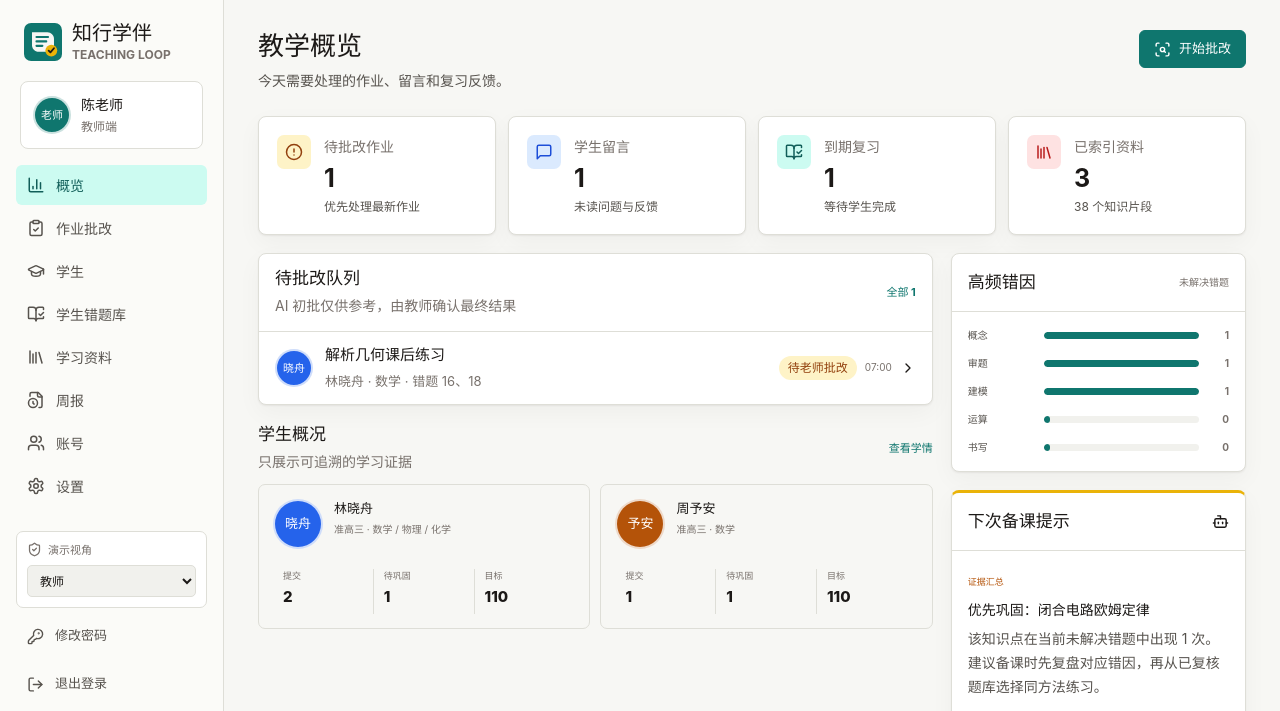
it: password settings › validates confirmation and updates the current account password
Click the button "修改密码" at [112, 636], box x1=16 y1=616 x2=207 y2=656
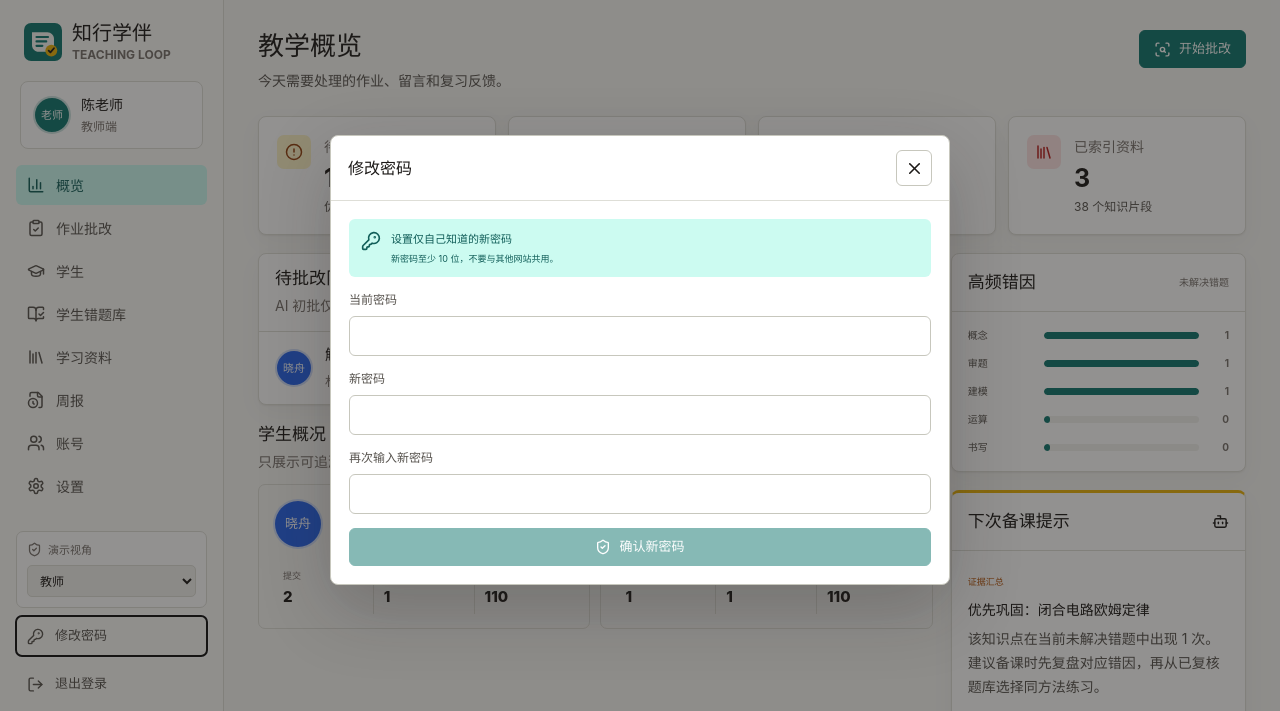
Type "current-password-2026" into the password field labelled "当前密码" at [640, 336], box x1=349 y1=316 x2=931 y2=356
Type "new-password-2026" into the password field labelled "新密码" at [640, 415], box x1=349 y1=395 x2=931 y2=435
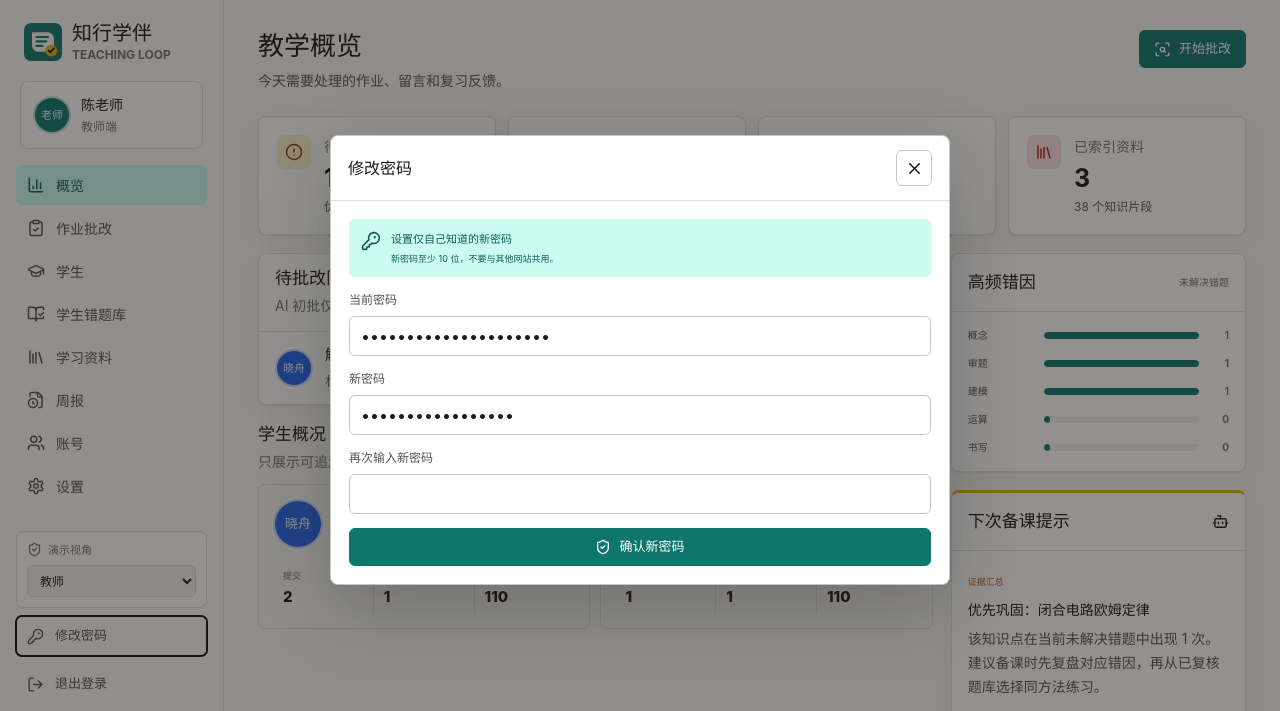
Type "different-password" into the password field labelled "再次输入新密码" at [640, 494], box x1=349 y1=474 x2=931 y2=514
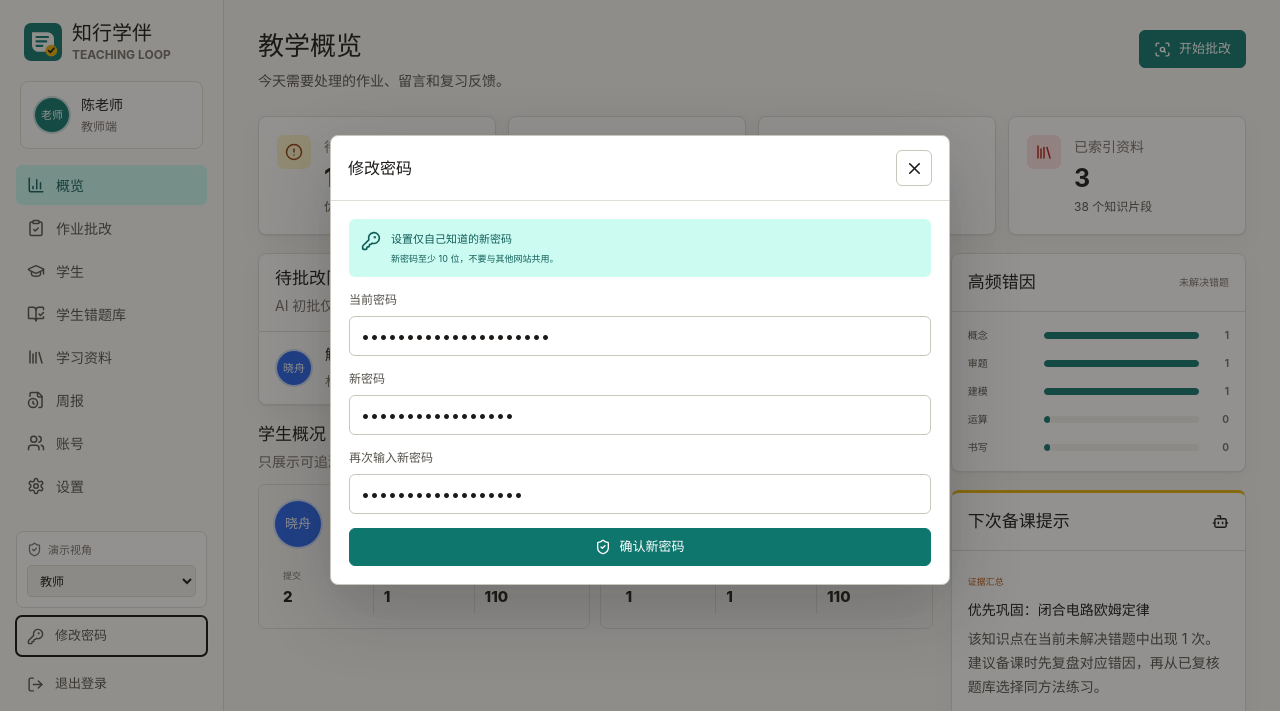
Click the button "确认新密码" at [640, 547], box x1=349 y1=528 x2=931 y2=566
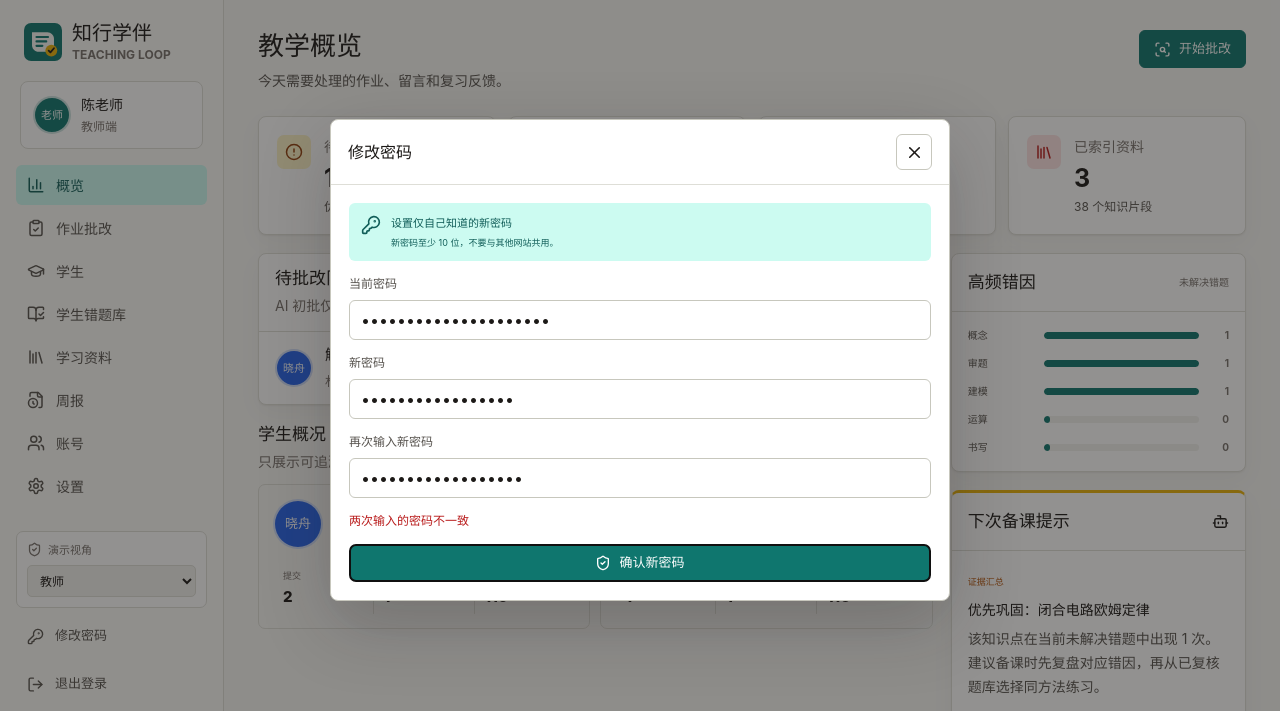
Expected: the text "两次输入的密码不一致" is shown, x1=349 y1=513 x2=469 y2=528
Type "new-password-2026" into the password field labelled "再次输入新密码" at [640, 478], box x1=349 y1=458 x2=931 y2=498
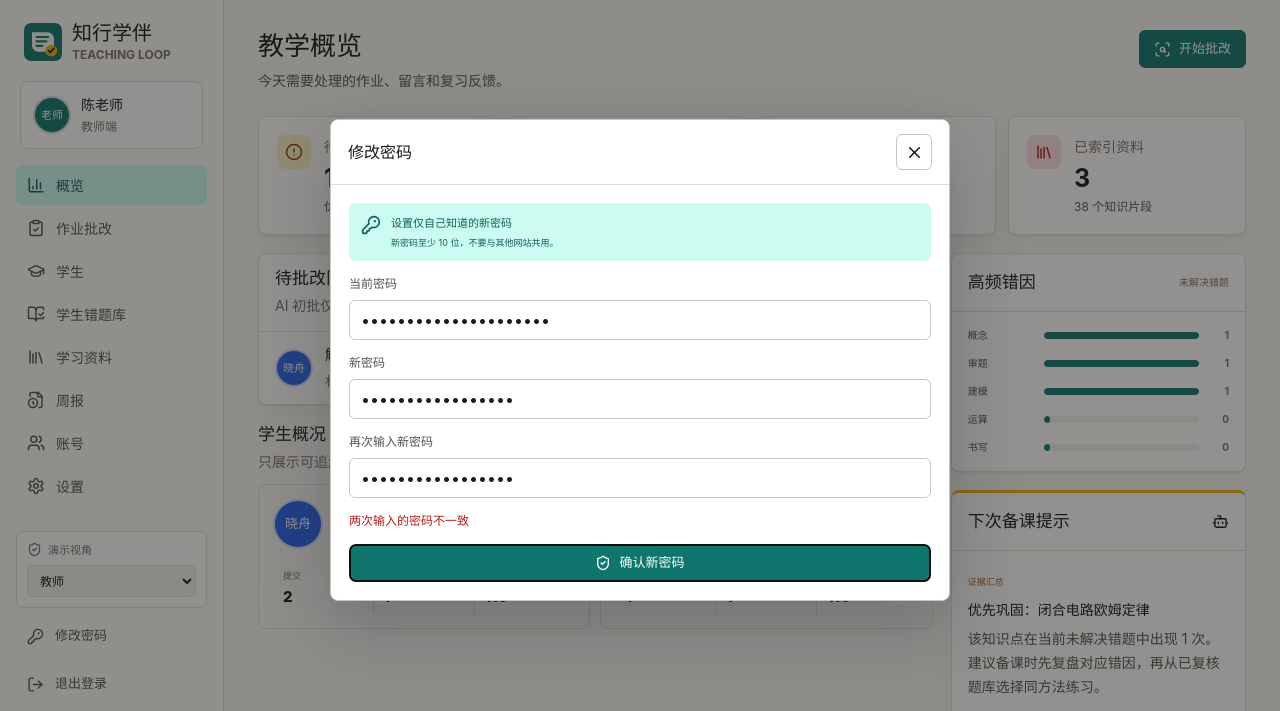
Click the button "确认新密码" at [640, 563], box x1=349 y1=544 x2=931 y2=582
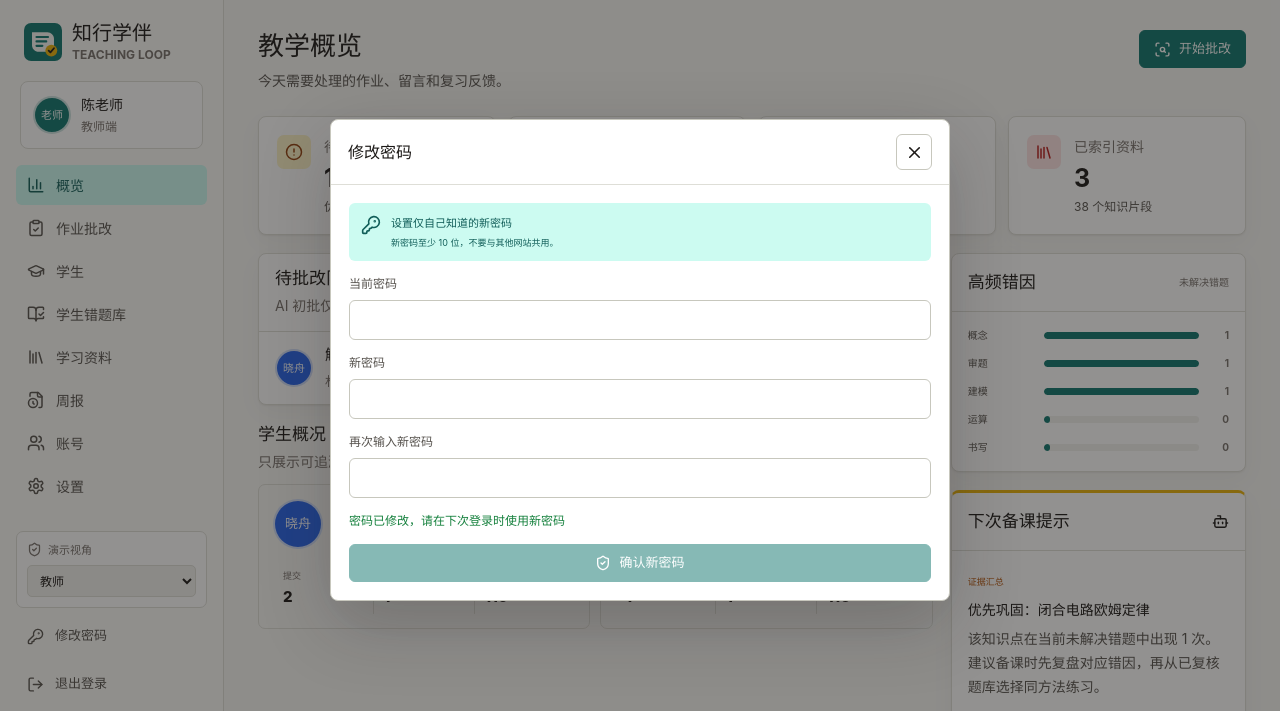
Expected: the text "密码已修改，请在下次登录时使用新密码" is shown, x1=349 y1=513 x2=565 y2=528
